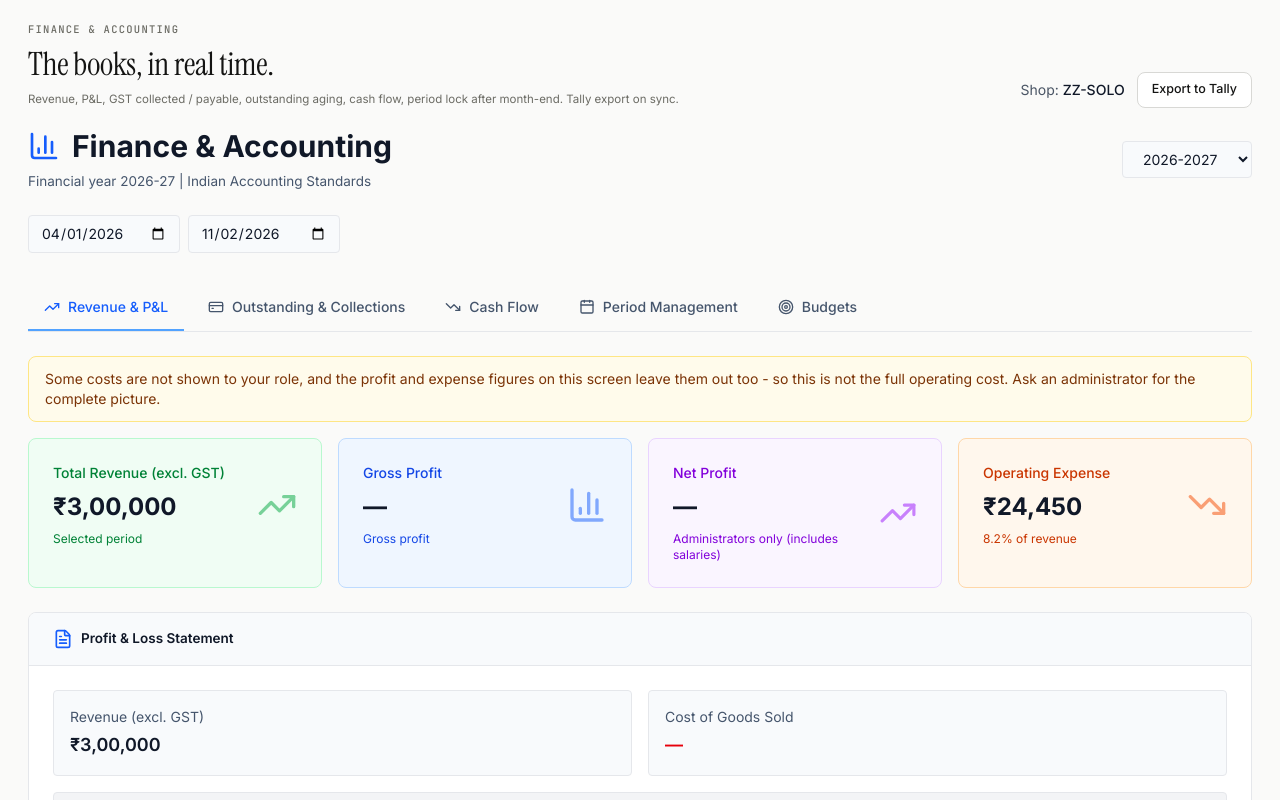
Test: FinanceDashboard budgets tab - the short budget declares itself › the budgets banner follows the BUDGET flag, not the P&L flag
Step 1. Click the button "Budgets" → (817, 308), box left=762, top=285, right=873, bottom=331
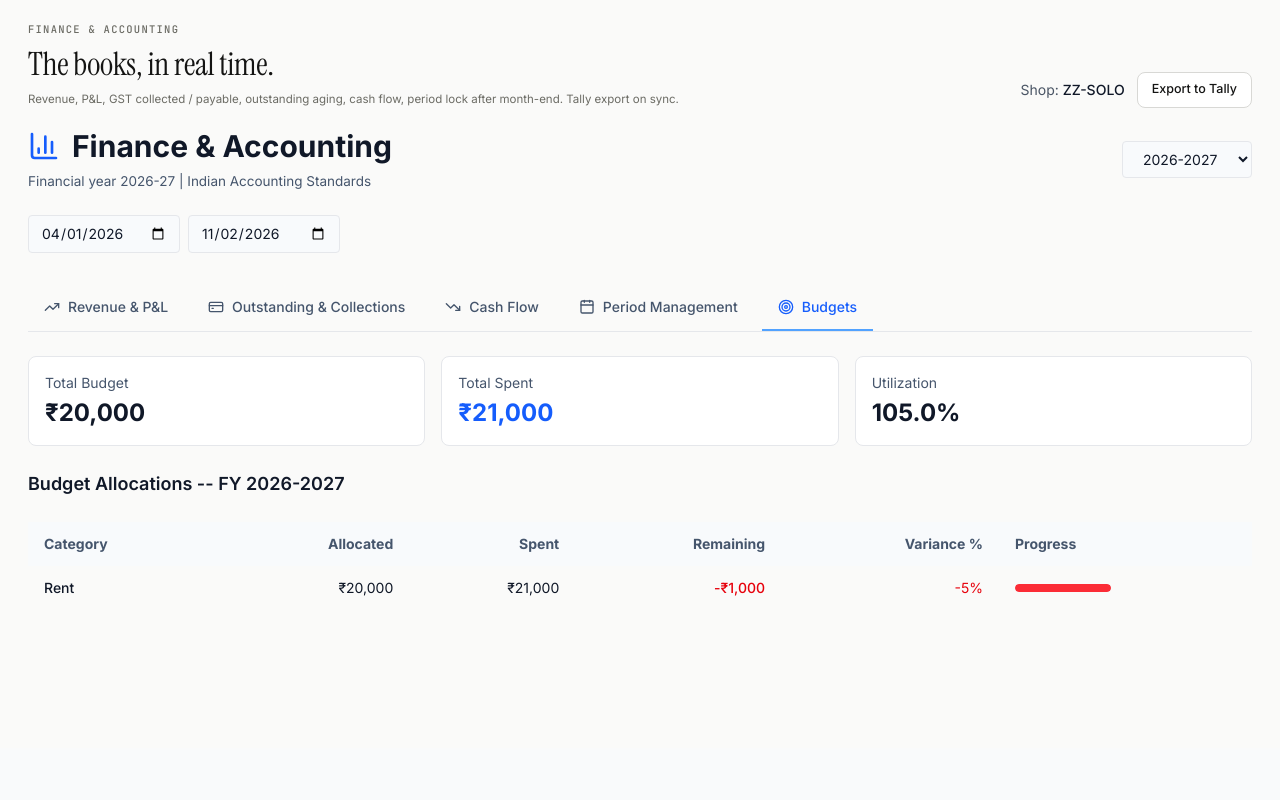
Expected: the message with test id "restricted-totals-notice" is gone
